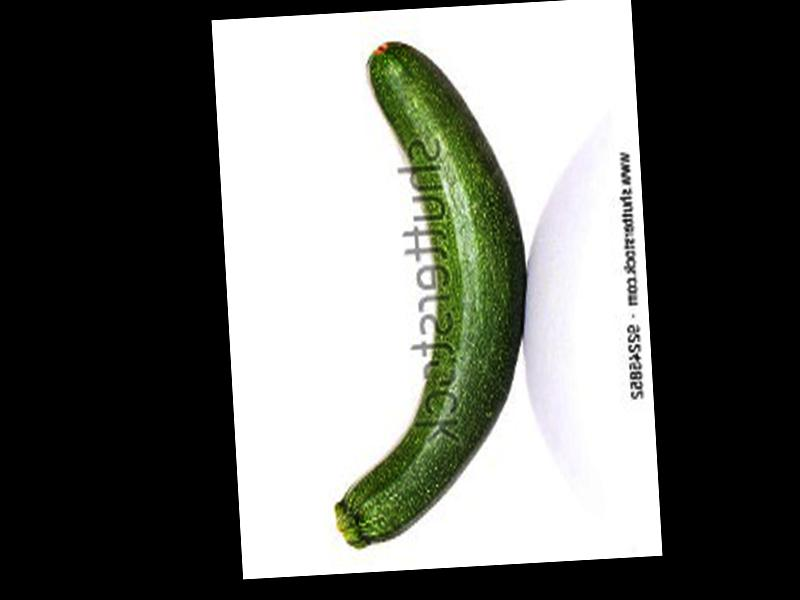Cucumber: (307, 35, 539, 547)
